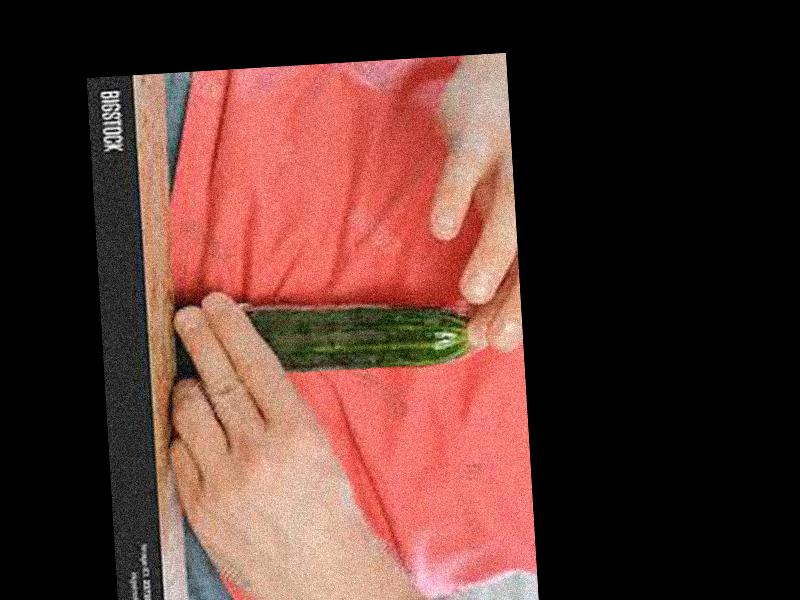Cucumber: (243, 294, 471, 378)
